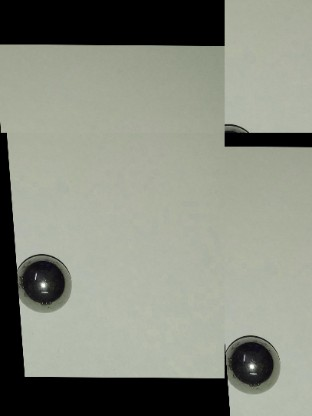ironball: (16, 248, 75, 313), (225, 333, 281, 392)
